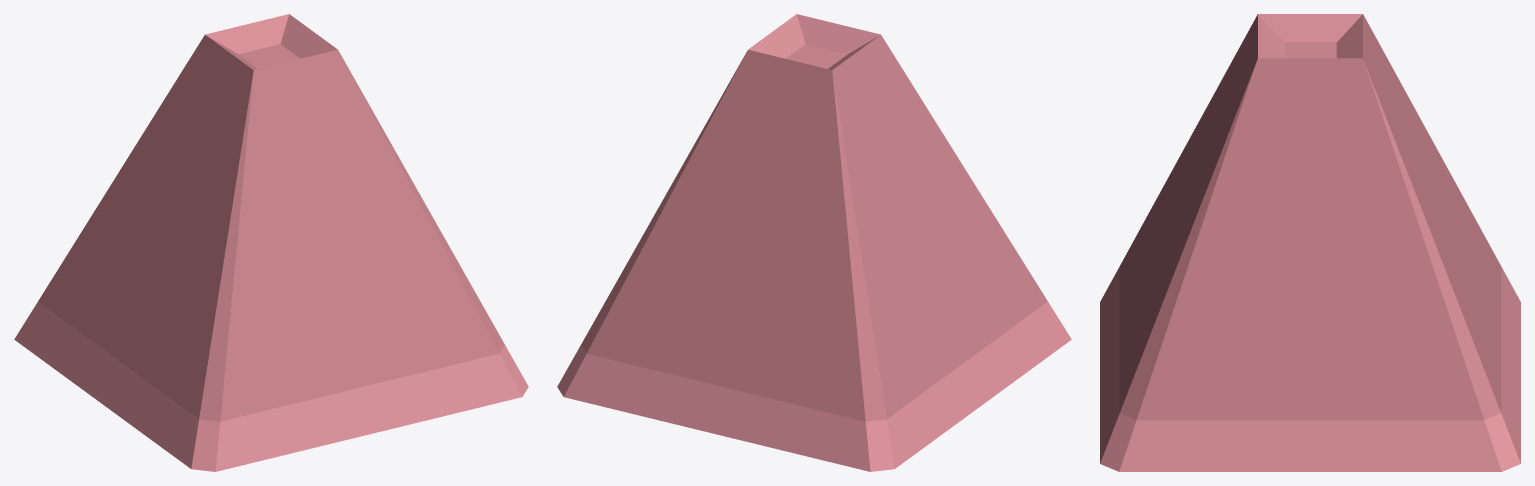
Rendered from roofHighPoint.glb.
The picture shows the model from 3 angles, left to right: view 1: azimuth 30°, elevation 25°; view 2: azimuth 150°, elevation 25°; view 3: azimuth 270°, elevation 25°; orthographic projection. The views are drawn at different scales.
Parts seen in each view (by area): view 1: roofHighPoint; view 2: roofHighPoint; view 3: roofHighPoint.
Part boxes in pixels (x1,y1,x2,y2): roofHighPoint: (14, 14, 528, 471); roofHighPoint: (557, 14, 1071, 471); roofHighPoint: (1100, 14, 1520, 471).
Size of the model in its own units: 1.1 by 1 by 1.1.
